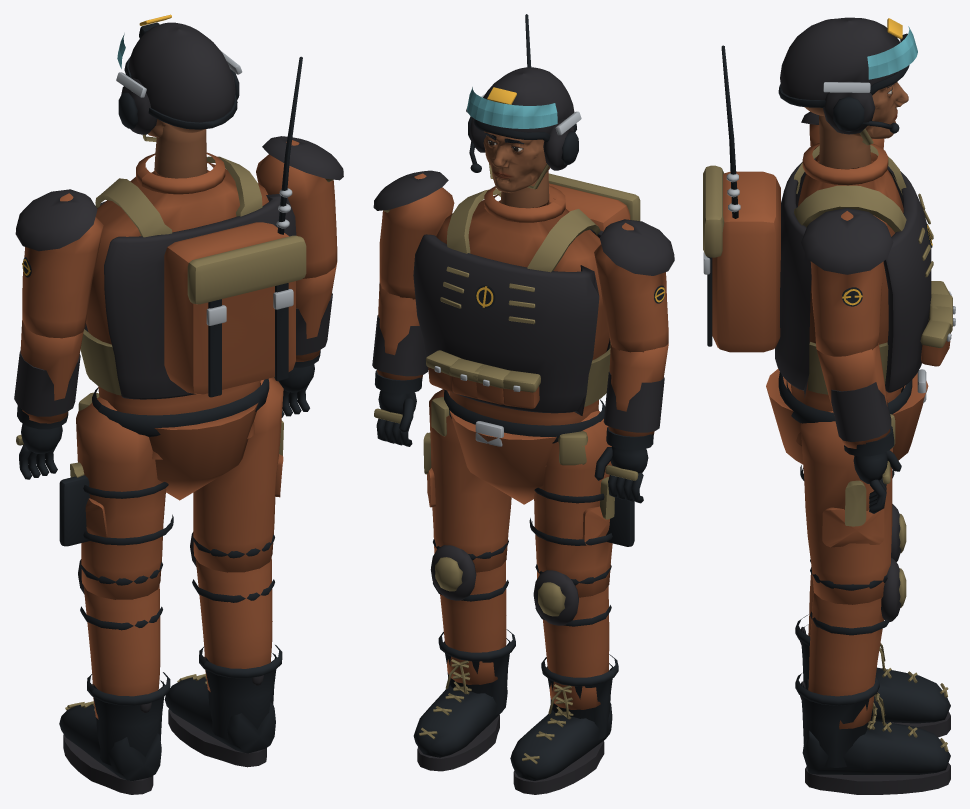
The model's file is kf-shotgun.glb.
3 renders of one model, left to right at view 1: azimuth 30°, elevation 25°; view 2: azimuth 150°, elevation 25°; view 3: azimuth 270°, elevation 25°, orthographic. The views are drawn at different scales.
Parts seen in each view (by area): view 1: Torso Woven uniform, Leg_R Woven uniform, Torso Ceramic armor, Torso Webbing, Knee_L Rubber and hair, Leg_L Woven uniform, Knee_R Rubber and hair, Head Ceramic armor, Knee_R Woven uniform, Knee_L Woven uniform, Arm_R Woven uniform, Torso Rubber and hair (+13 smaller); view 2: Torso Ceramic armor, Torso Woven uniform, Torso Webbing, Leg_R Woven uniform, Knee_R Rubber and hair, Knee_L Rubber and hair, Leg_L Woven uniform, Arm_R Woven uniform, Knee_L Woven uniform, Knee_R Woven uniform, Arm_L Woven uniform, Head Ceramic armor (+19 smaller); view 3: Torso Woven uniform, Torso Ceramic armor, Knee_L Rubber and hair, Leg_L Woven uniform, Head Ceramic armor, Torso Webbing, Knee_L Woven uniform, Arm_L Woven uniform, Arm_L Ceramic armor, Knee_R Rubber and hair, Torso Rubber and hair, Elbow_L Ceramic armor (+12 smaller).
Boxes of the visible parts, <box> form: Torso Woven uniform: <box>86,152,295,500</box>; Leg_R Woven uniform: <box>76,397,166,599</box>; Torso Ceramic armor: <box>84,194,296,399</box>; Torso Webbing: <box>78,156,306,410</box>; Knee_L Rubber and hair: <box>164,534,282,767</box>; Leg_L Woven uniform: <box>193,377,283,572</box>; Knee_R Rubber and hair: <box>59,562,170,794</box>; Head Ceramic armor: <box>118,22,239,134</box>; Knee_R Woven uniform: <box>83,585,160,719</box>; Knee_L Woven uniform: <box>195,557,272,691</box>; Arm_R Woven uniform: <box>22,193,103,338</box>; Torso Rubber and hair: <box>92,56,302,436</box>; Torso Ceramic armor: <box>413,229,610,415</box>; Torso Woven uniform: <box>428,183,630,504</box>; Torso Webbing: <box>426,173,640,465</box>; Leg_R Woven uniform: <box>534,410,612,597</box>; Knee_R Rubber and hair: <box>510,564,618,794</box>; Knee_L Rubber and hair: <box>413,539,515,771</box>; Leg_L Woven uniform: <box>427,389,511,572</box>; Arm_R Woven uniform: <box>594,223,668,352</box>; Knee_L Woven uniform: <box>440,561,506,684</box>; Knee_R Woven uniform: <box>542,586,609,709</box>; Arm_L Woven uniform: <box>379,173,454,299</box>; Head Ceramic armor: <box>468,67,578,170</box>; Torso Woven uniform: <box>712,143,950,464</box>; Torso Ceramic armor: <box>775,158,931,397</box>; Knee_L Rubber and hair: <box>795,567,950,794</box>; Leg_L Woven uniform: <box>800,411,892,604</box>; Head Ceramic armor: <box>780,17,900,134</box>; Torso Webbing: <box>703,145,952,448</box>; Knee_L Woven uniform: <box>808,591,883,729</box>; Arm_L Woven uniform: <box>810,211,883,356</box>; Arm_L Ceramic armor: <box>801,208,893,274</box>; Knee_R Rubber and hair: <box>795,559,950,737</box>; Torso Rubber and hair: <box>707,45,932,423</box>; Elbow_L Ceramic armor: <box>831,382,891,441</box>.
Size of the model in its own units: 0.8471 by 1.9 by 0.5912.
